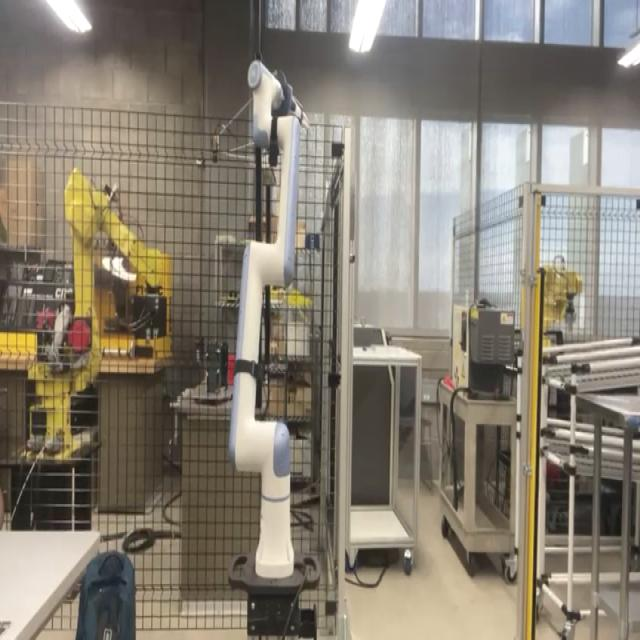robot: (221, 41, 322, 596)
